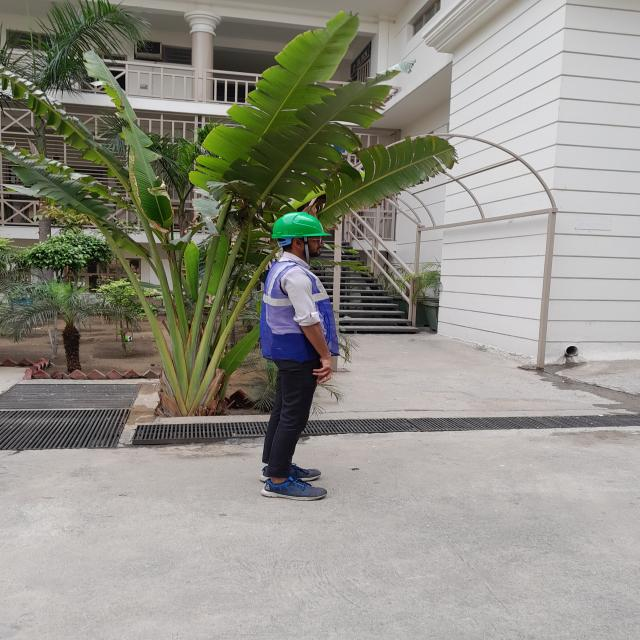safe: (260, 212, 339, 500)
